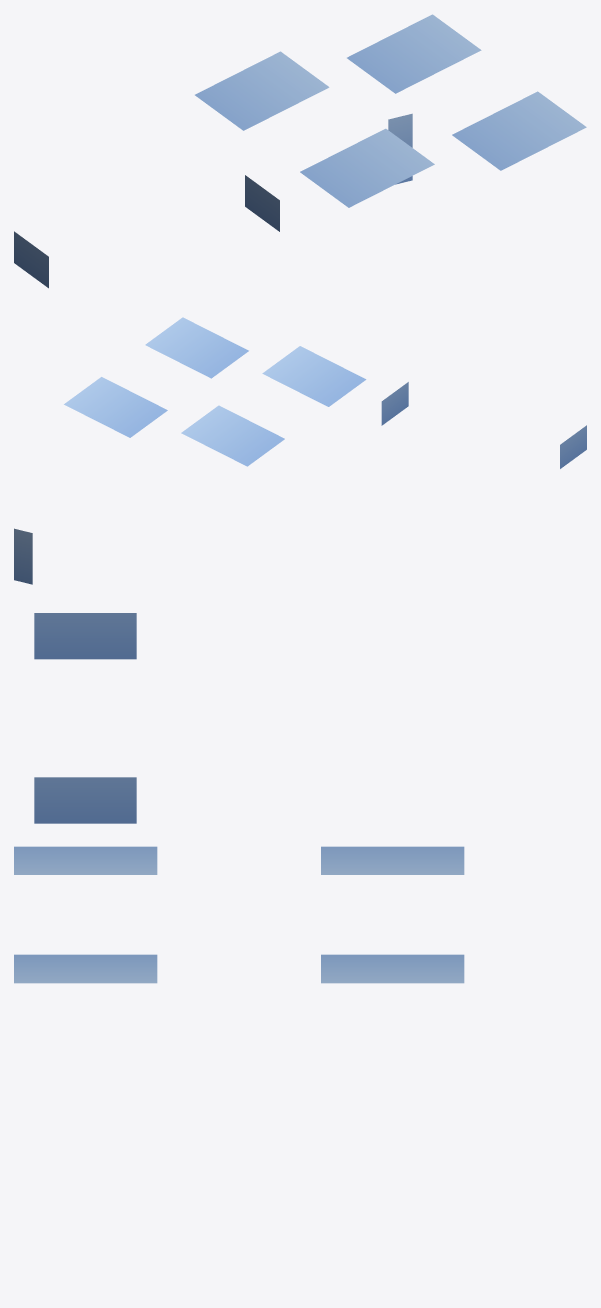
File: 041_2_4_building-q_1.glb
The picture shows the model from 3 angles, top to bottom: view 1: azimuth 30°, elevation 25°; view 2: azimuth 150°, elevation 25°; view 3: azimuth 270°, elevation 25°; orthographic projection. The views are drawn at different scales.
Parts seen in each view (by area): view 1: 2_4_building-q_1; view 2: 2_4_building-q_1; view 3: 2_4_building-q_1.
Boxes of the visible parts, x1=… form: 2_4_building-q_1: x1=14, y1=14, x2=586, y2=288; 2_4_building-q_1: x1=14, y1=317, x2=586, y2=584; 2_4_building-q_1: x1=14, y1=613, x2=464, y2=983.
Bounding box in the file's own units: 1.82 × 0.636 × 1.12.
1 material, 1 textured.
